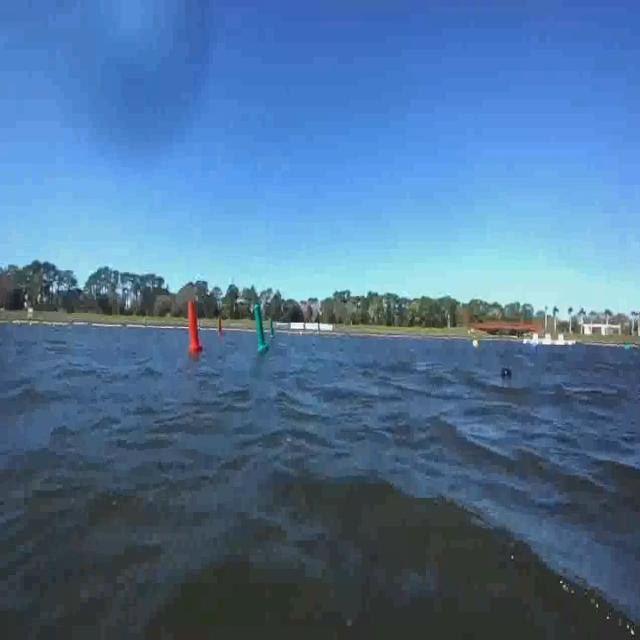black-buoy: (500, 362, 514, 386)
green-buoy: (625, 344, 631, 352)
green-column-buoy: (255, 306, 271, 356)
red-column-buoy: (185, 300, 202, 353), (217, 318, 224, 336)
yellow-buoy: (472, 338, 478, 351)
